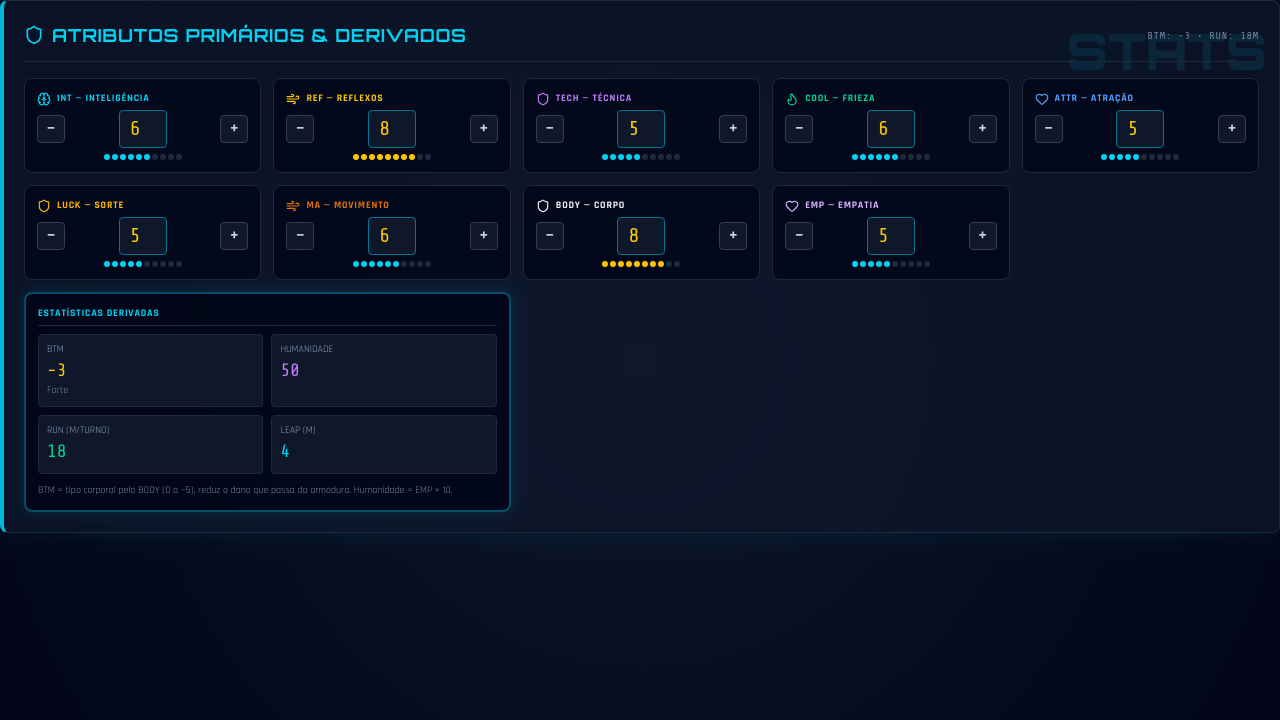
G.12 — o atributo digitado entra como digitado › sair do campo com 40 grava 15
Replace the text in the number field named "INT" with "40": (143, 129) [119,110,167,148]
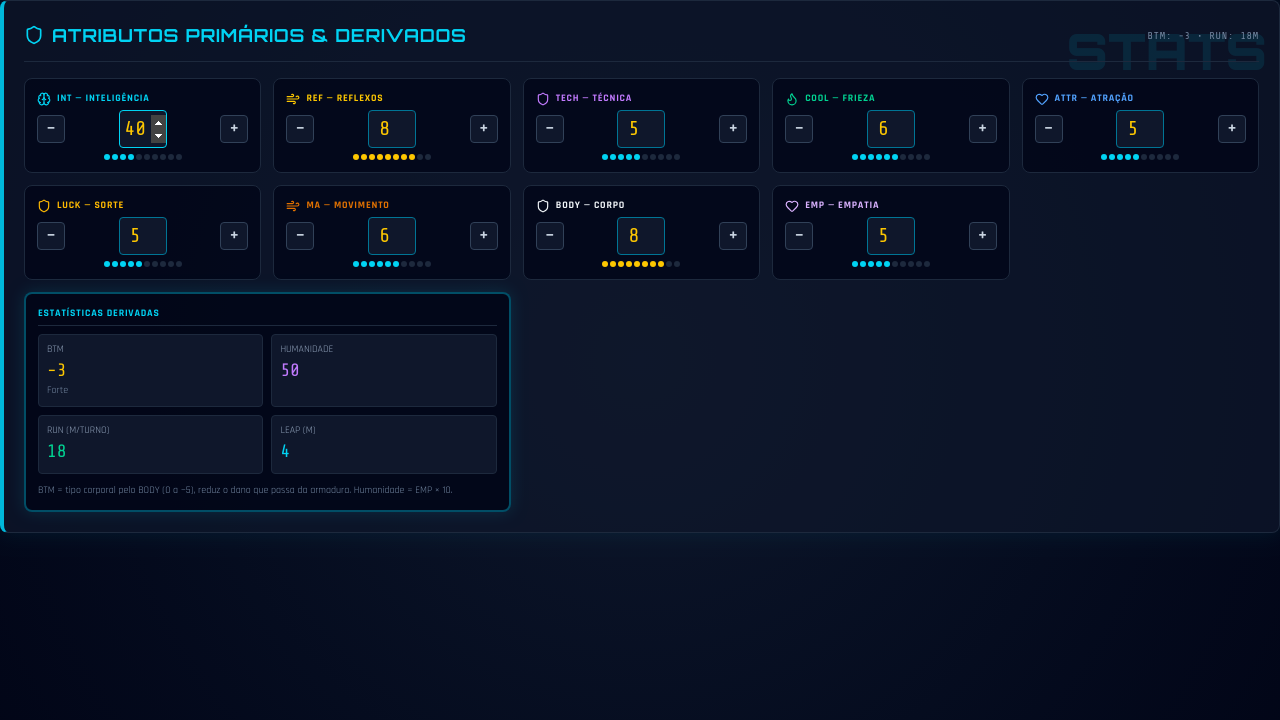
Press Tab
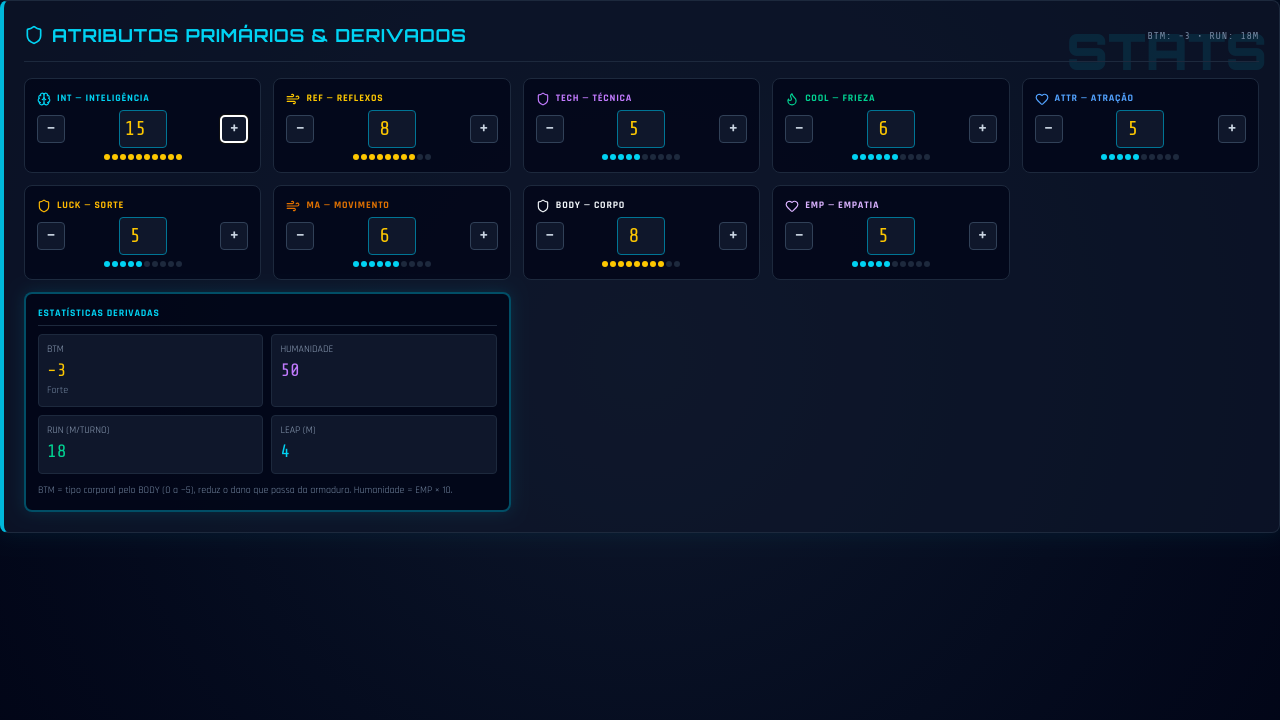
expect the number field named "INT" holds "15": met, box [119,110,167,148]
